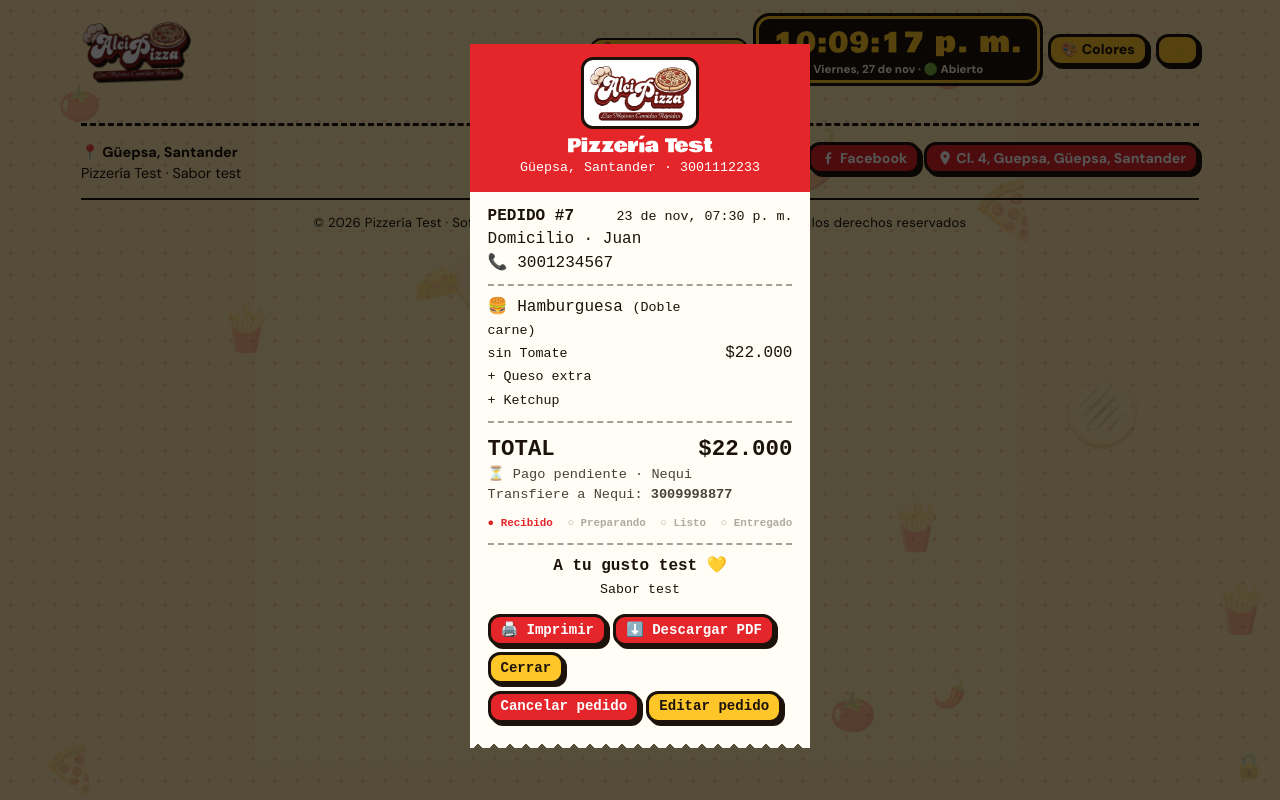
Scenario: TirillaPage · cancelar y editar › si la API responde 409 NO_EDITABLE muestra el mensaje y recarga el estado
The image size is (1280, 800).
Click the button "Cancelar pedido": (564, 707) top-left (488, 691), bottom-right (640, 723)
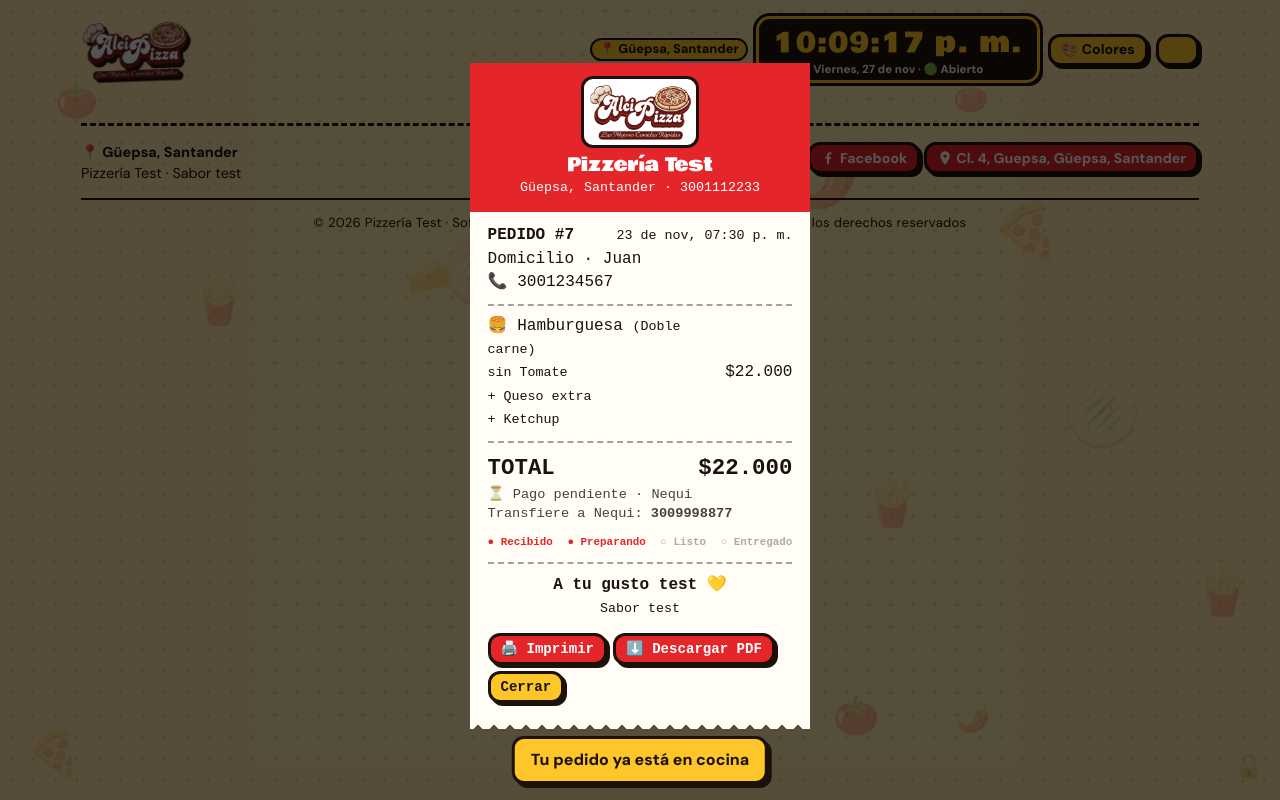
Expected: the button "Cancelar pedido" is gone
